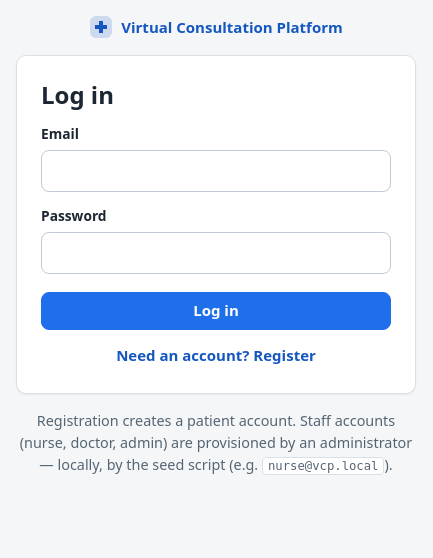
Scenario: Login screen › shows a readable error when the API rejects
Type "patient@example.test" into the field labelled "Email".
click(216, 171); type("patient@example.test")  # box [41,150,391,192]
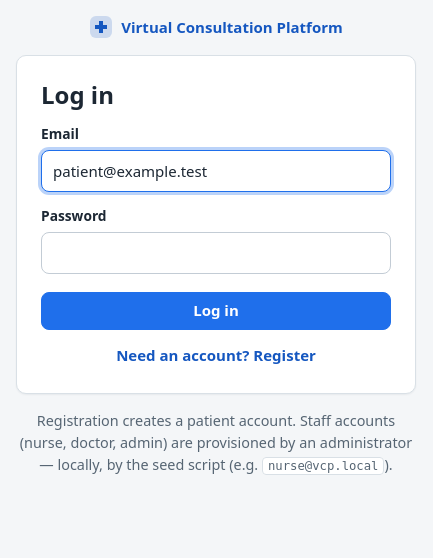
Type "wrong" into the password field labelled "Password".
click(216, 253); type("wrong")  # box [41,232,391,274]
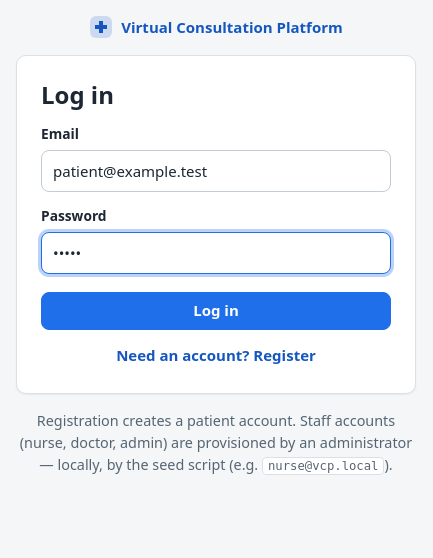
Click the button "Log in".
click(216, 311)  # box [41,292,391,330]
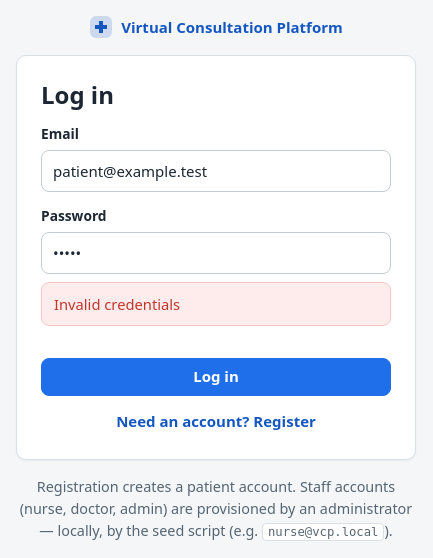
Check: the text "Invalid credentials" is shown, box [41,282,391,326]
